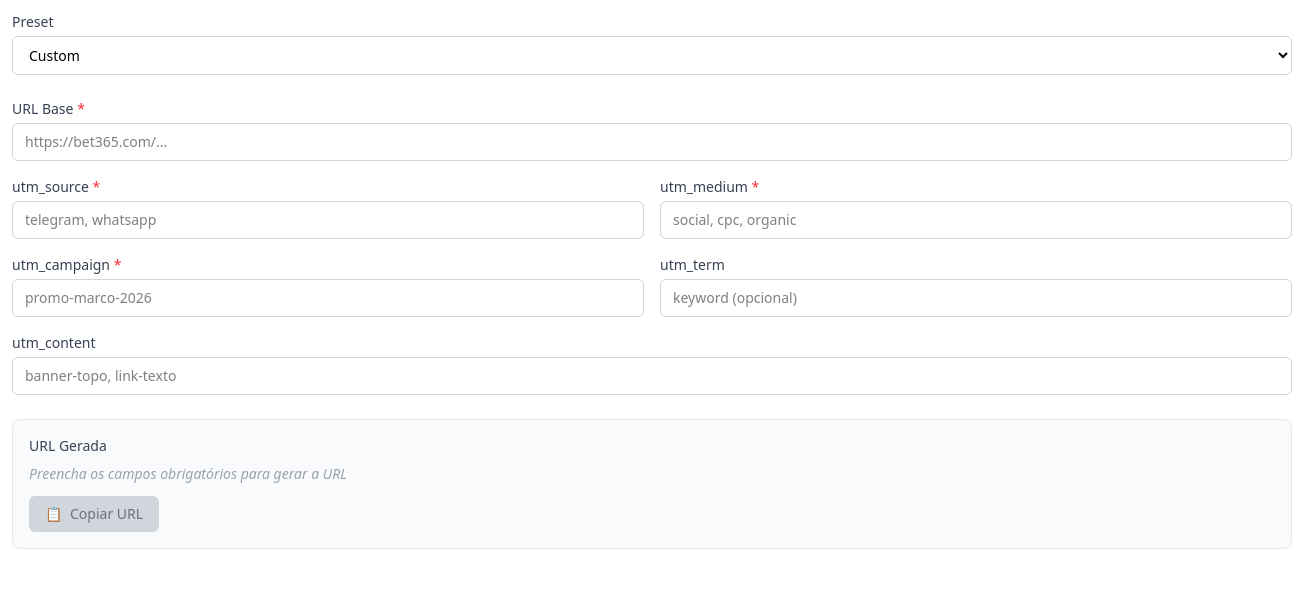
it: UtmBuilder › generates URL preview in real time
The image size is (1304, 592).
Type "https://example.com" into the field with placeholder "https://bet365.com/..." at coordinates (652, 142), box [12, 123, 1292, 161]
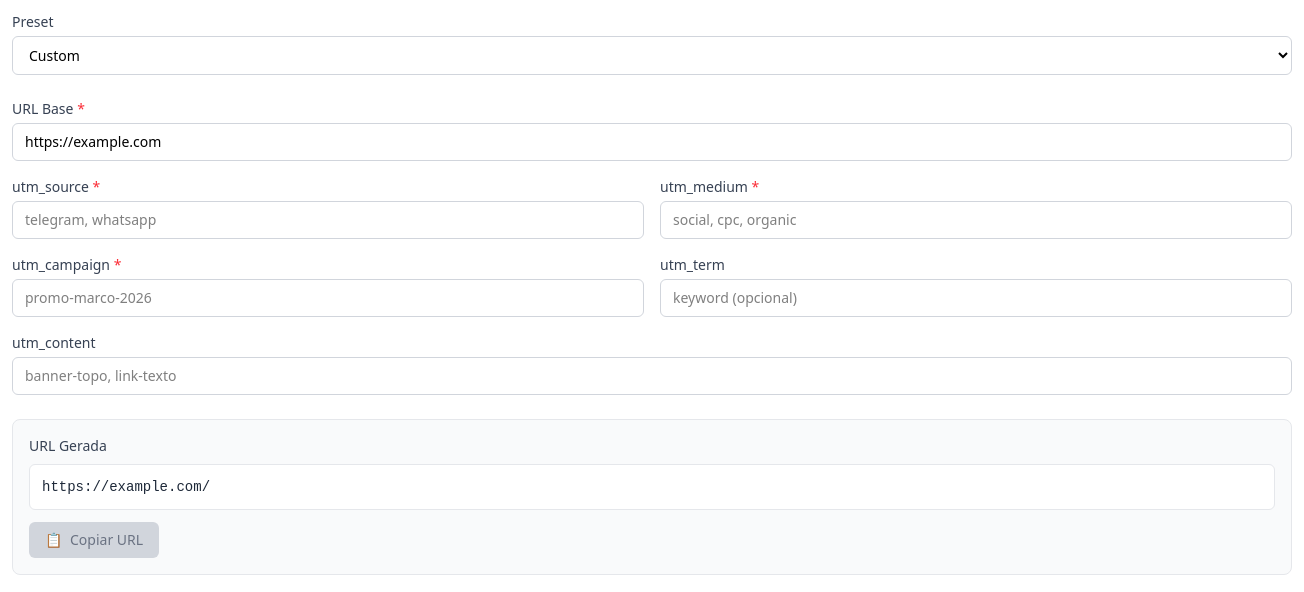
Type "telegram" into the field with placeholder "telegram, whatsapp" at coordinates (328, 220), box [12, 201, 644, 239]
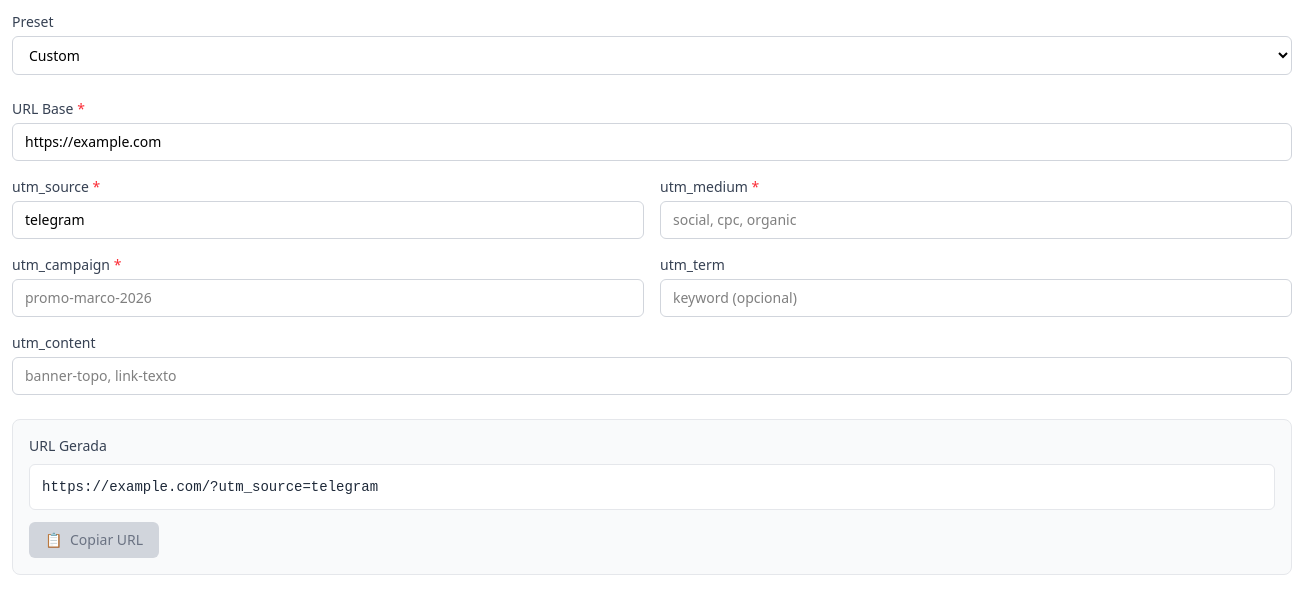
Type "social" into the field with placeholder "social, cpc, organic" at coordinates (976, 220), box [660, 201, 1292, 239]
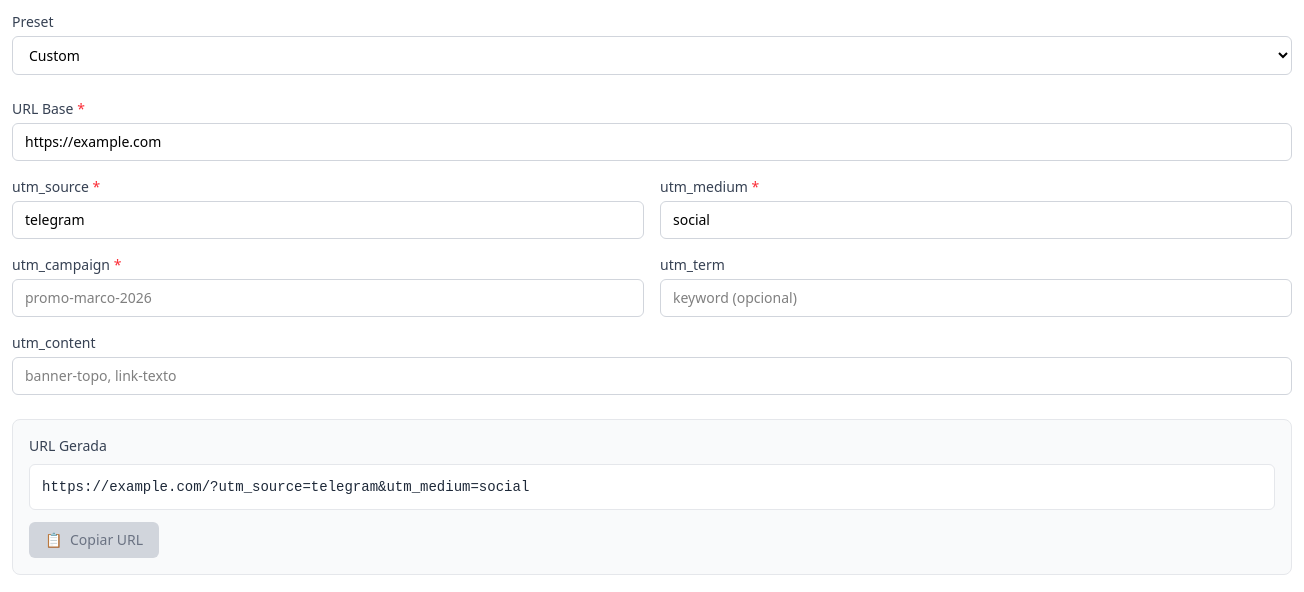
Type "test-campaign" into the field with placeholder "promo-marco-2026" at coordinates (328, 298), box [12, 279, 644, 317]
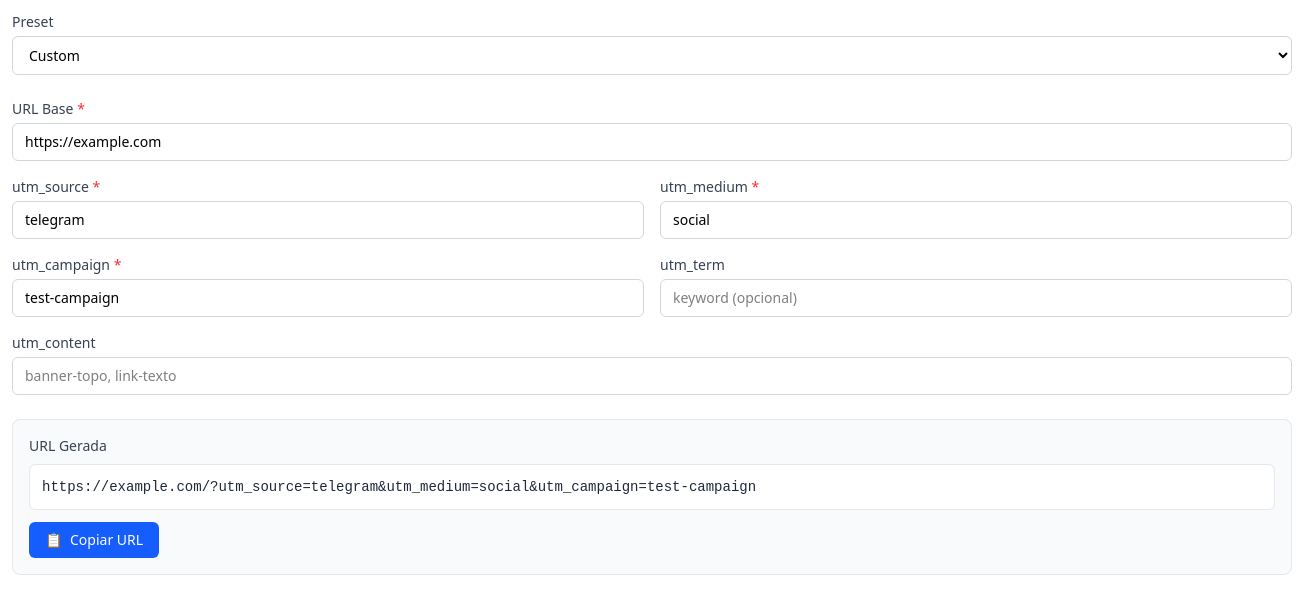
Expected: the text "https://example.com/?utm_source=telegram&utm_medium=social&utm_campaign=test-campaign" is shown, [42, 479, 756, 495]
